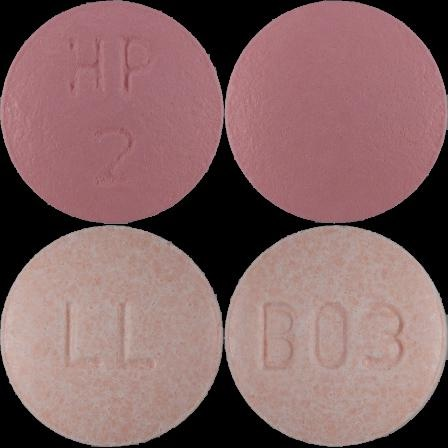49349-229: (0, 0, 224, 224)
